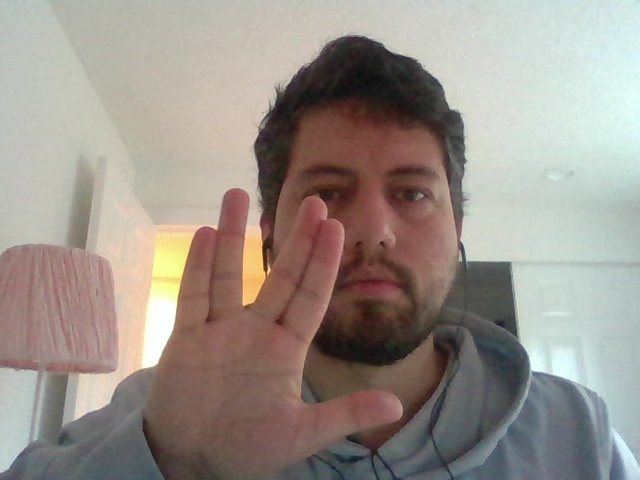LiveLong: (142, 187, 407, 476)
